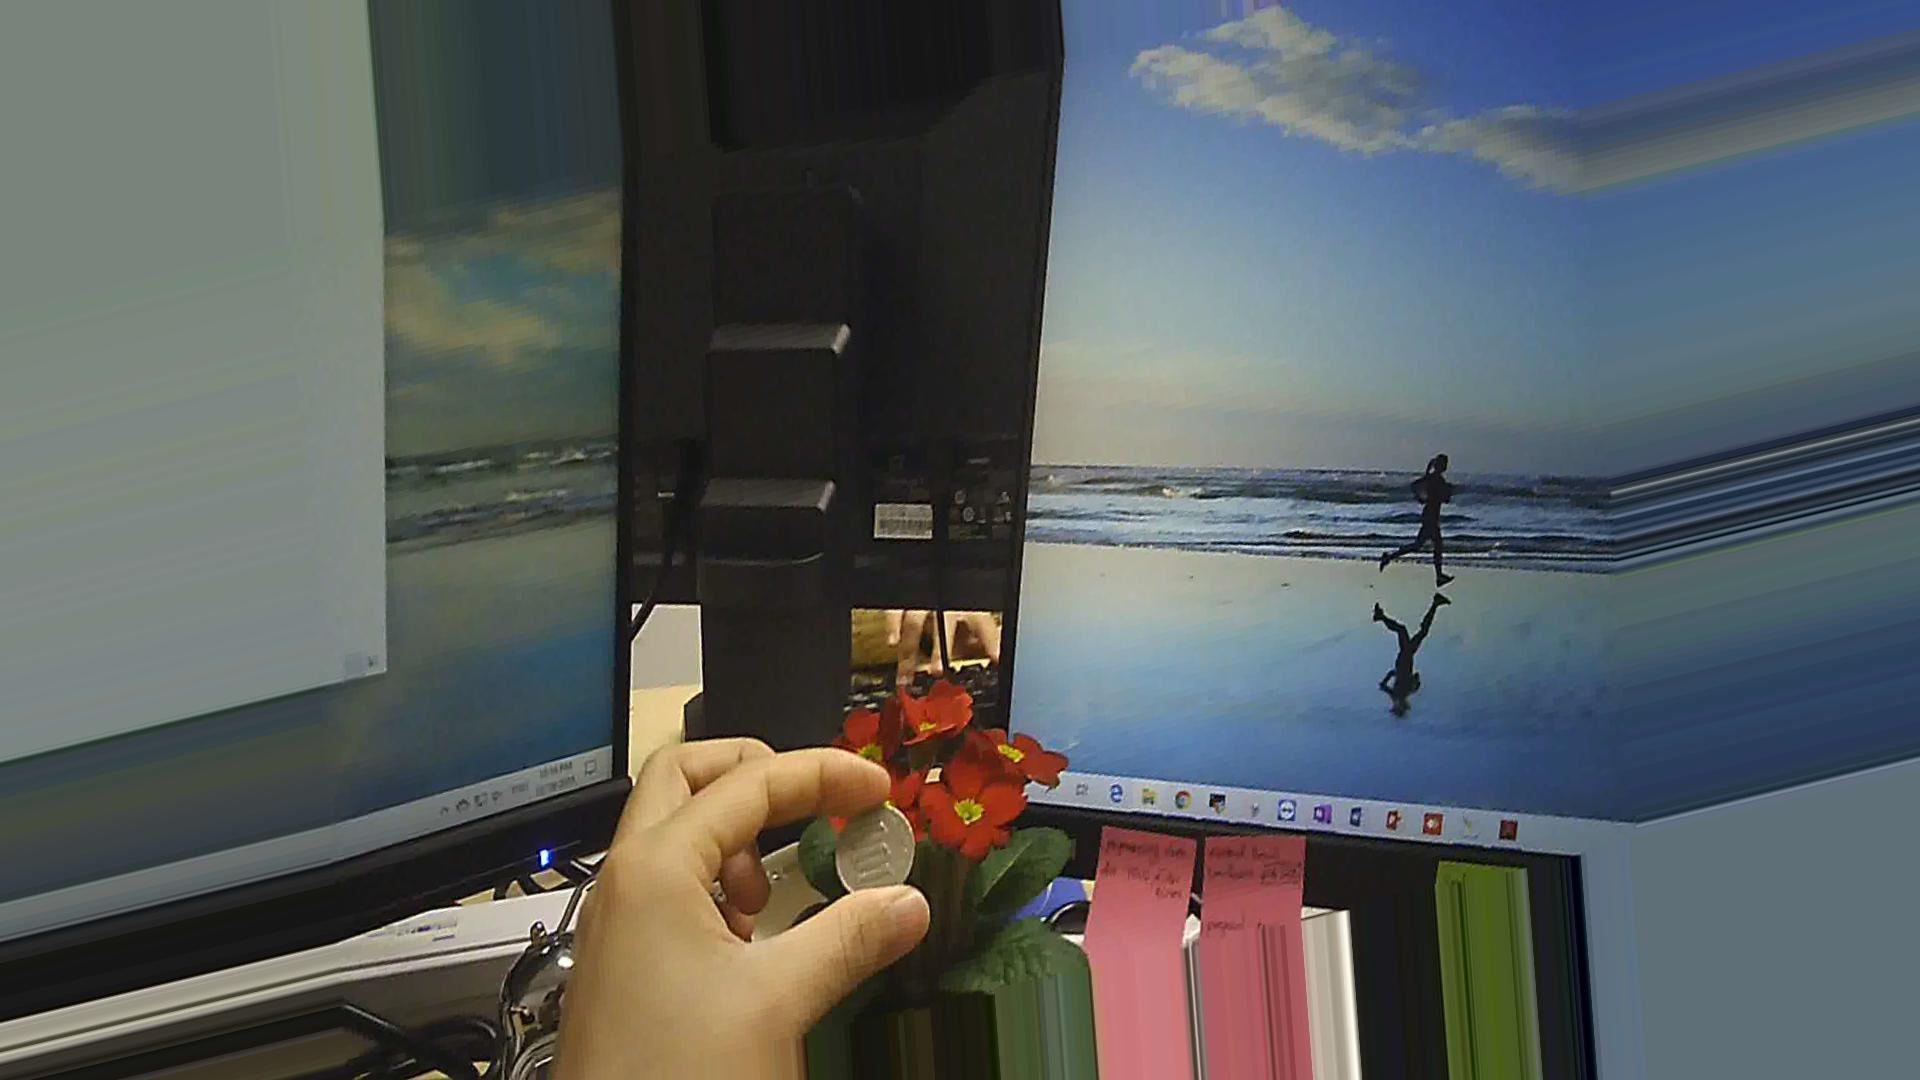100 Yen: (804, 785, 928, 894)
